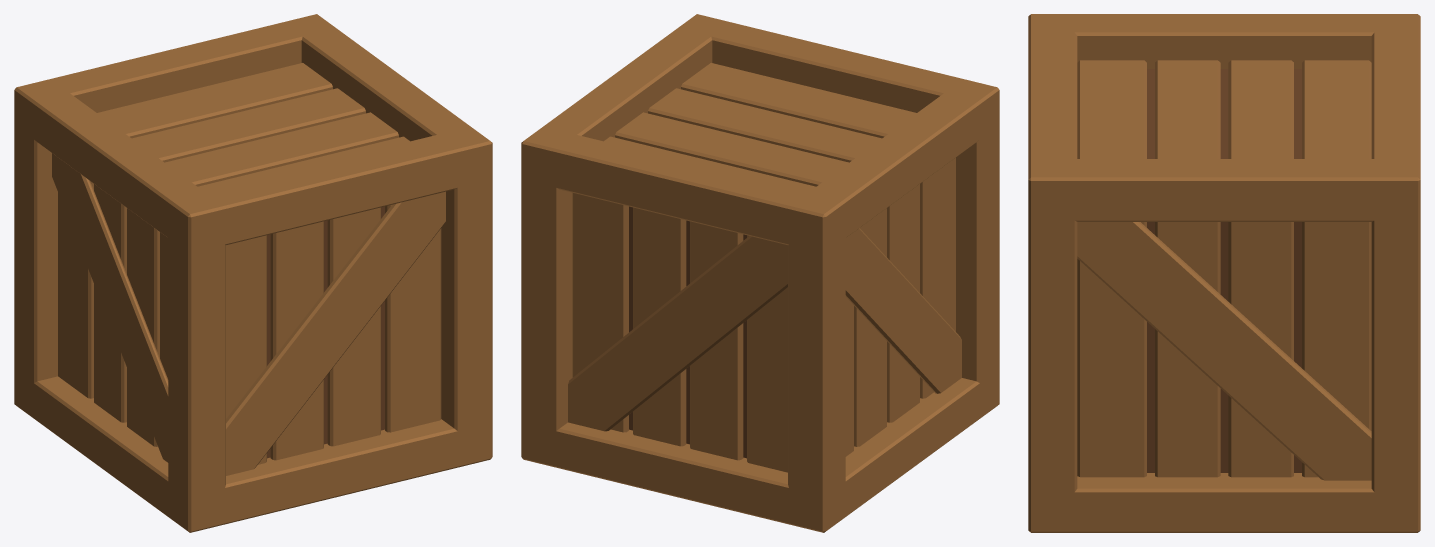
The model's file is WoodenCrate.fbx.
3 renders of one model, left to right at view 1: azimuth 30°, elevation 25°; view 2: azimuth 150°, elevation 25°; view 3: azimuth 270°, elevation 25°, orthographic. The views are drawn at different scales.
Visible parts, largest first — view 1: WoodenCrate; view 2: WoodenCrate; view 3: WoodenCrate.
Part boxes in pixels (x1,y1,x2,y2): WoodenCrate: (14, 14, 492, 532); WoodenCrate: (521, 14, 999, 532); WoodenCrate: (1028, 14, 1420, 532).
Size of the model in its own units: 100 by 100 by 100.
